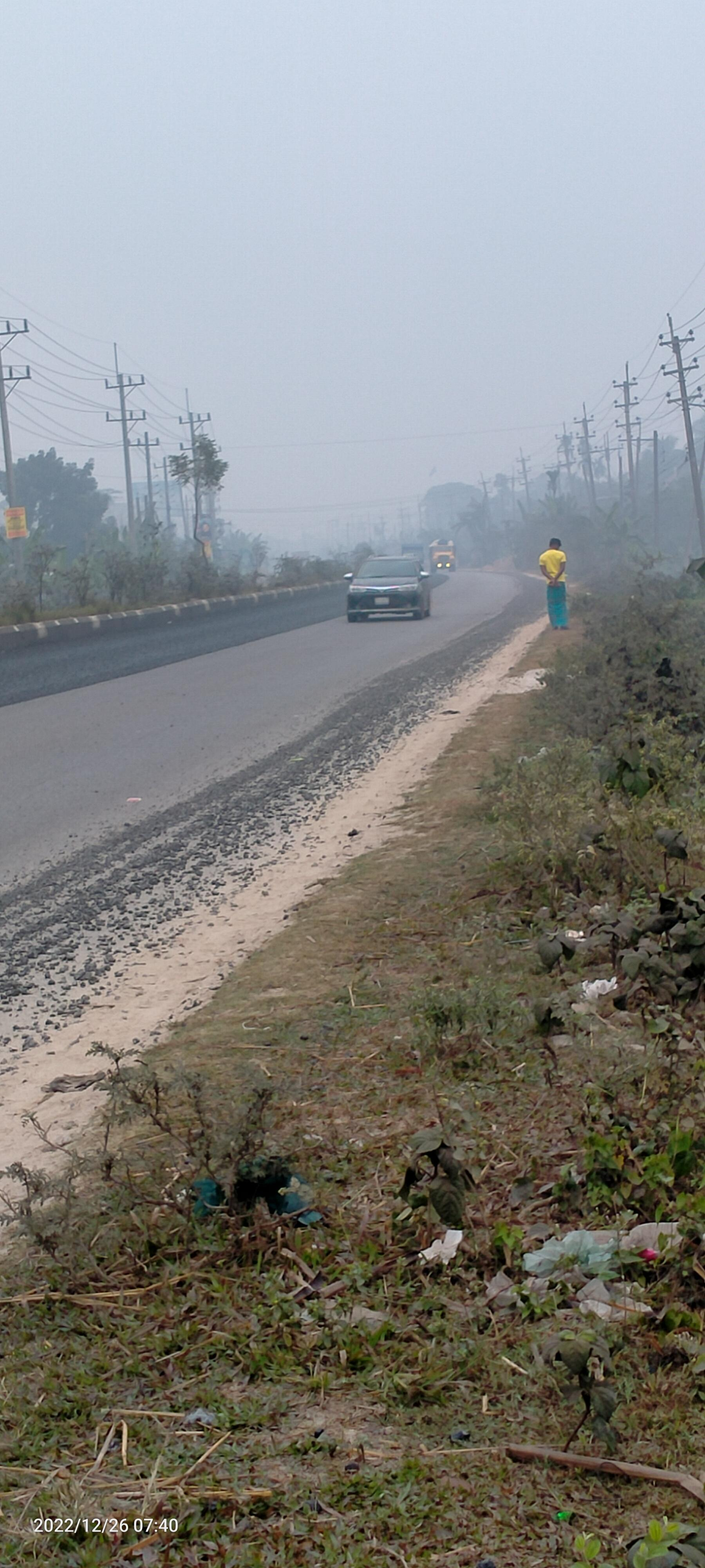Car: (338, 545, 447, 635)
Truck: (425, 535, 463, 578)
